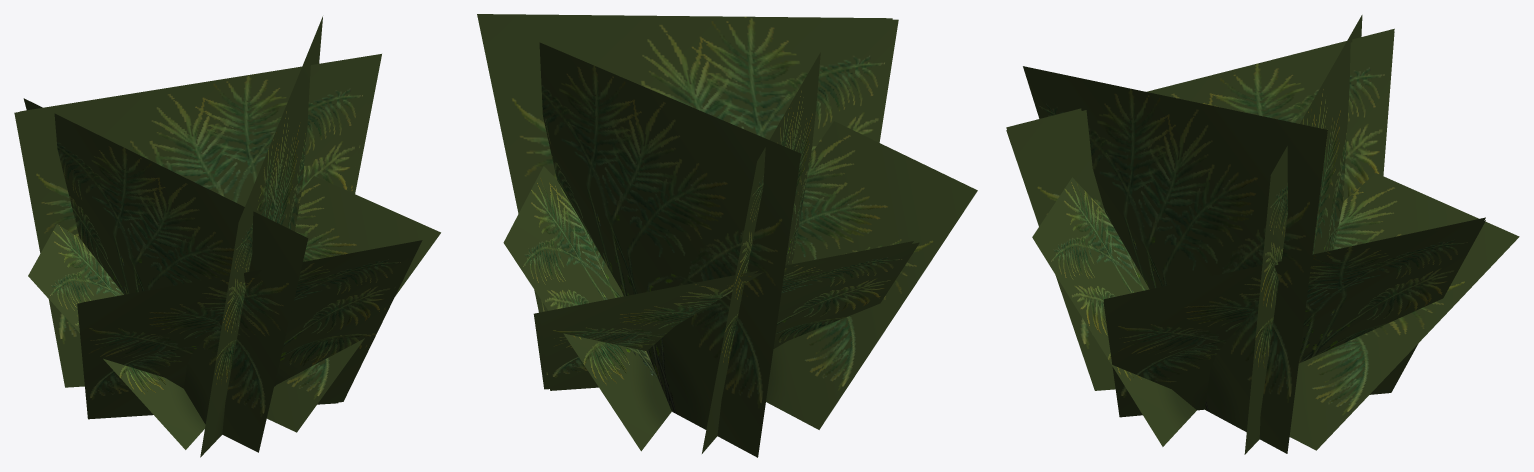
File: GM_guanmu002_003.FBX
3 renders of one model, left to right at view 1: azimuth 30°, elevation 25°; view 2: azimuth 150°, elevation 25°; view 3: azimuth 270°, elevation 25°, orthographic. The views are drawn at different scales.
Visible parts, largest first — view 1: GM_巴陵灌木002_003; view 2: GM_巴陵灌木002_003; view 3: GM_巴陵灌木002_003.
Part boxes in pixels (<box>): GM_巴陵灌木002_003: <box>14,16,440,457</box>; GM_巴陵灌木002_003: <box>477,14,977,457</box>; GM_巴陵灌木002_003: <box>1006,15,1519,454</box>.
Size of the model in its own units: 174 by 143 by 190.
